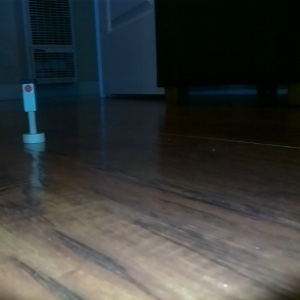traffic light red: (19, 77, 47, 146)
